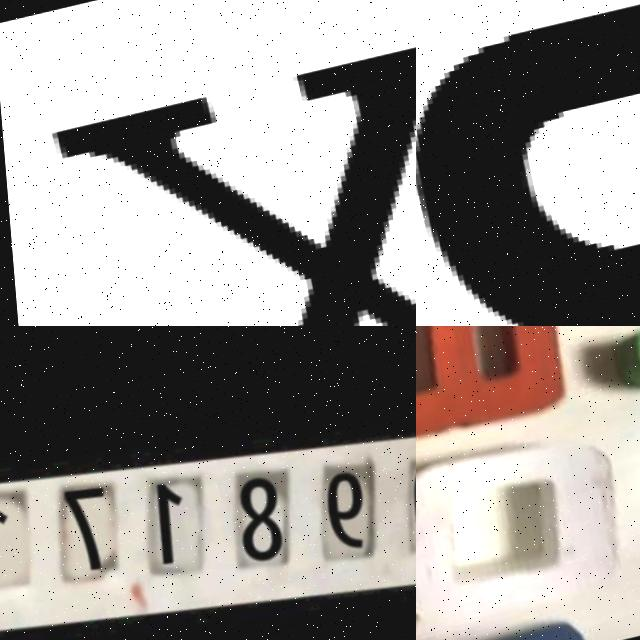0: (391, 462, 416, 565)
1: (128, 474, 214, 583), (0, 485, 39, 594)
7: (43, 477, 128, 588)
8: (215, 470, 301, 583)
9: (305, 467, 384, 571)
P: (416, 11, 640, 326)
Q: (416, 434, 622, 640)
W: (416, 326, 577, 457)
X: (42, 6, 416, 326)
